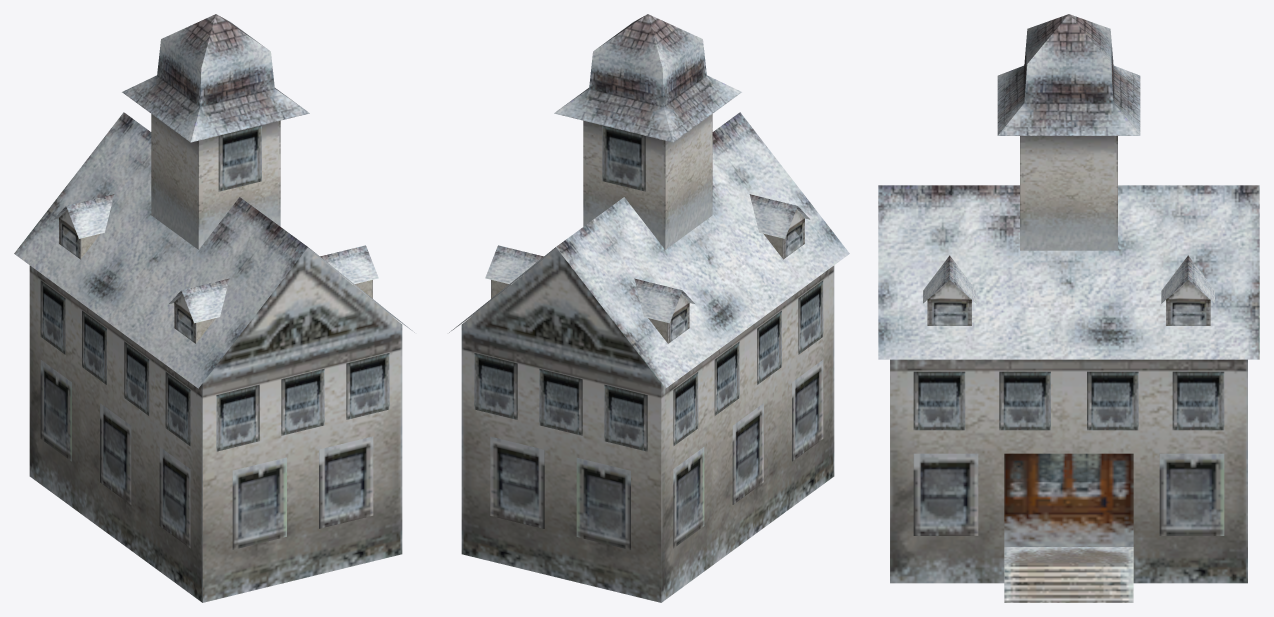
Rendered from Civilian - Residential Building - Stan Schoolhouse 02 - Snow and Night - CBTSchlhs_sn.glb.
3 renders of one model, left to right at view 1: azimuth 30°, elevation 25°; view 2: azimuth 150°, elevation 25°; view 3: azimuth 270°, elevation 25°, orthographic. The views are drawn at different scales.
Visible parts, largest first — view 1: CBTSCHLHS_SN; view 2: CBTSCHLHS_SN; view 3: CBTSCHLHS_SN.
Part boxes in pixels (x1,y1,x2,y2): CBTSCHLHS_SN: [14, 14, 414, 602]; CBTSCHLHS_SN: [449, 14, 849, 602]; CBTSCHLHS_SN: [878, 14, 1259, 602].
Bounding box in the file's own units: 22.96 × 44.23 × 29.48.
Materials: 1 (1 with a texture image).
